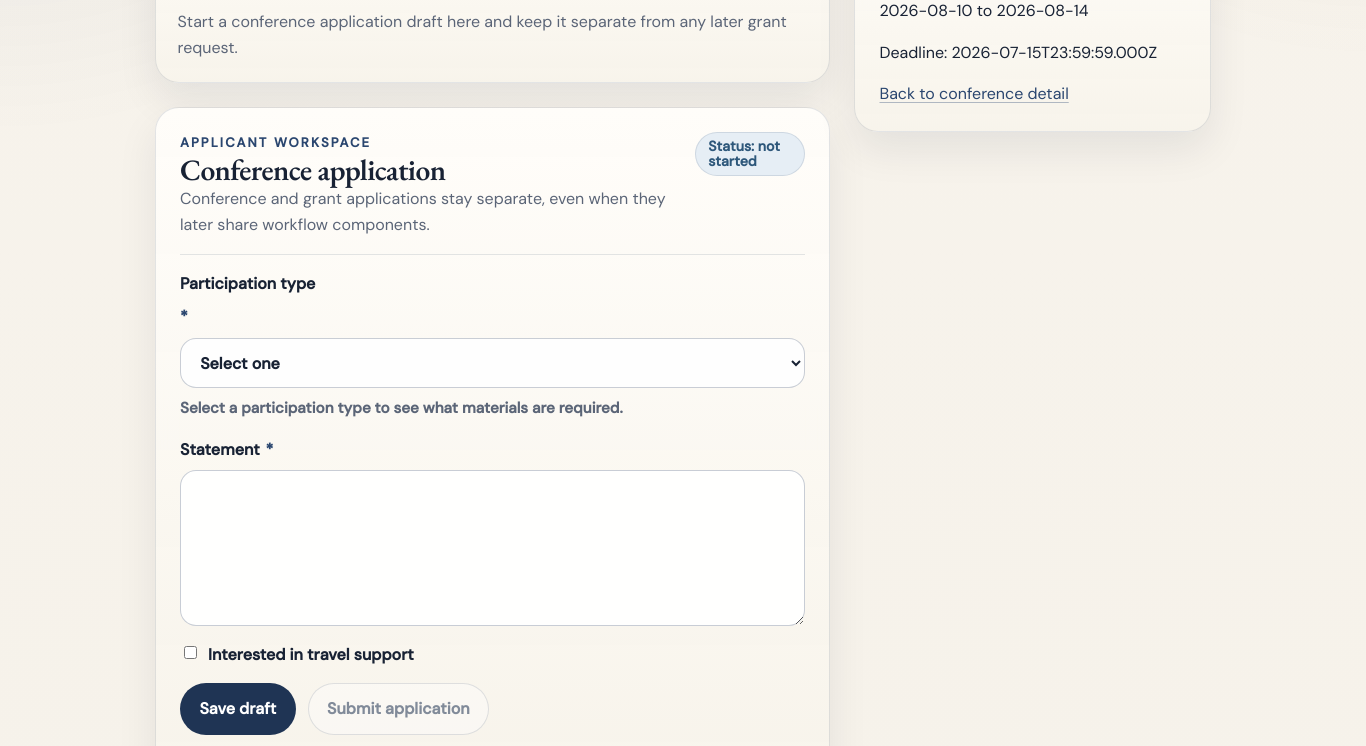
Test: conference apply page › allows participant submissions without abstract fields once the draft is saved
(page scrolled)
Expected: the heading "Conference application" is shown, 180,150 -> 446,189
Select "participant" in the dropdown labelled "Participation type *" at [493, 363], box 180,338 -> 806,388
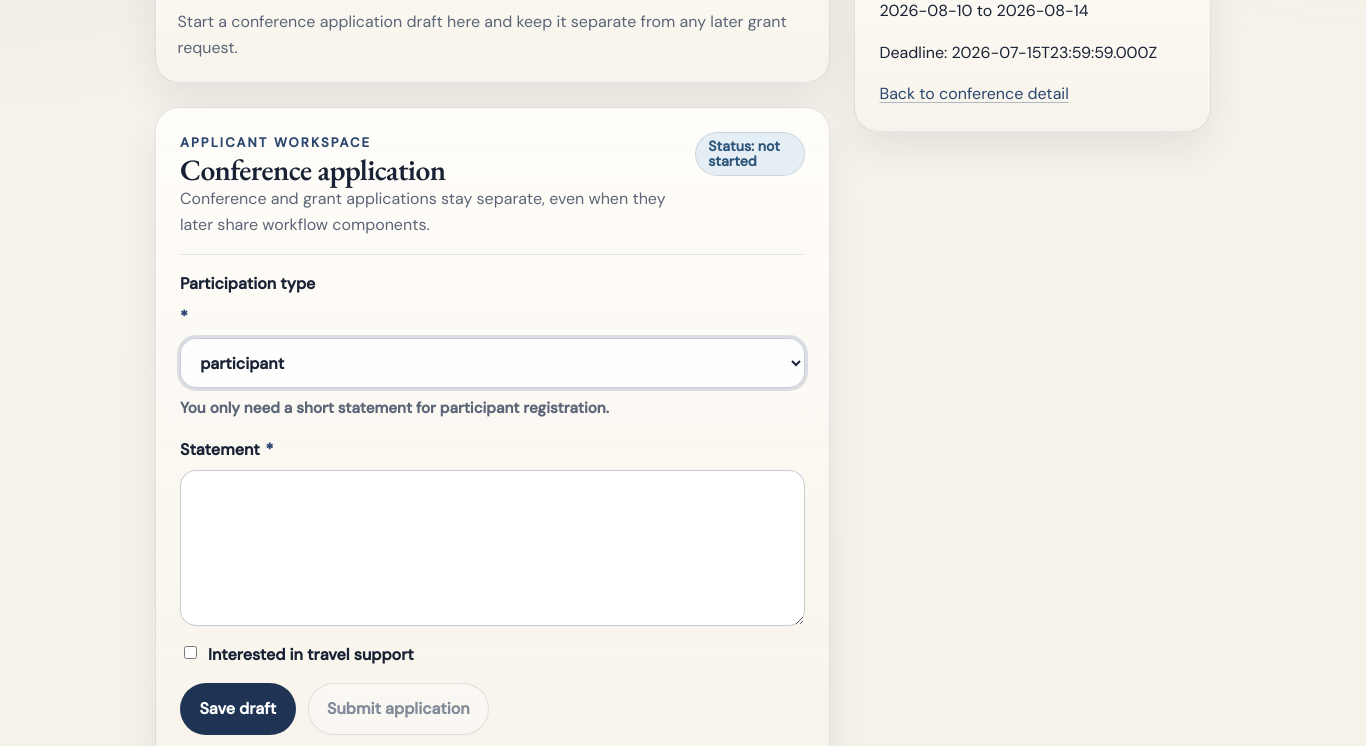
Type "I would like to attend and join discussions." into the text box labelled "Statement *" at [493, 548], box 180,470 -> 806,626
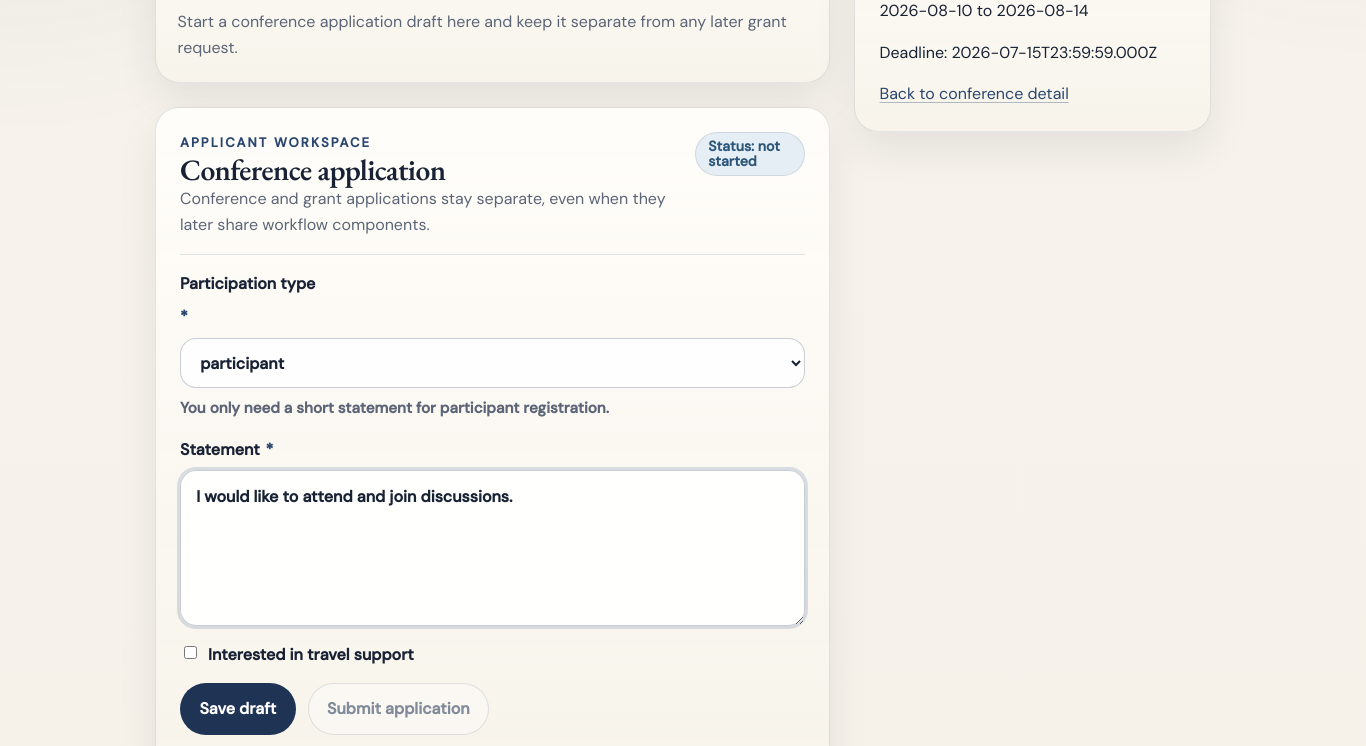
Click the button "Save draft" at [238, 709], box 180,683 -> 296,735
(page scrolled)
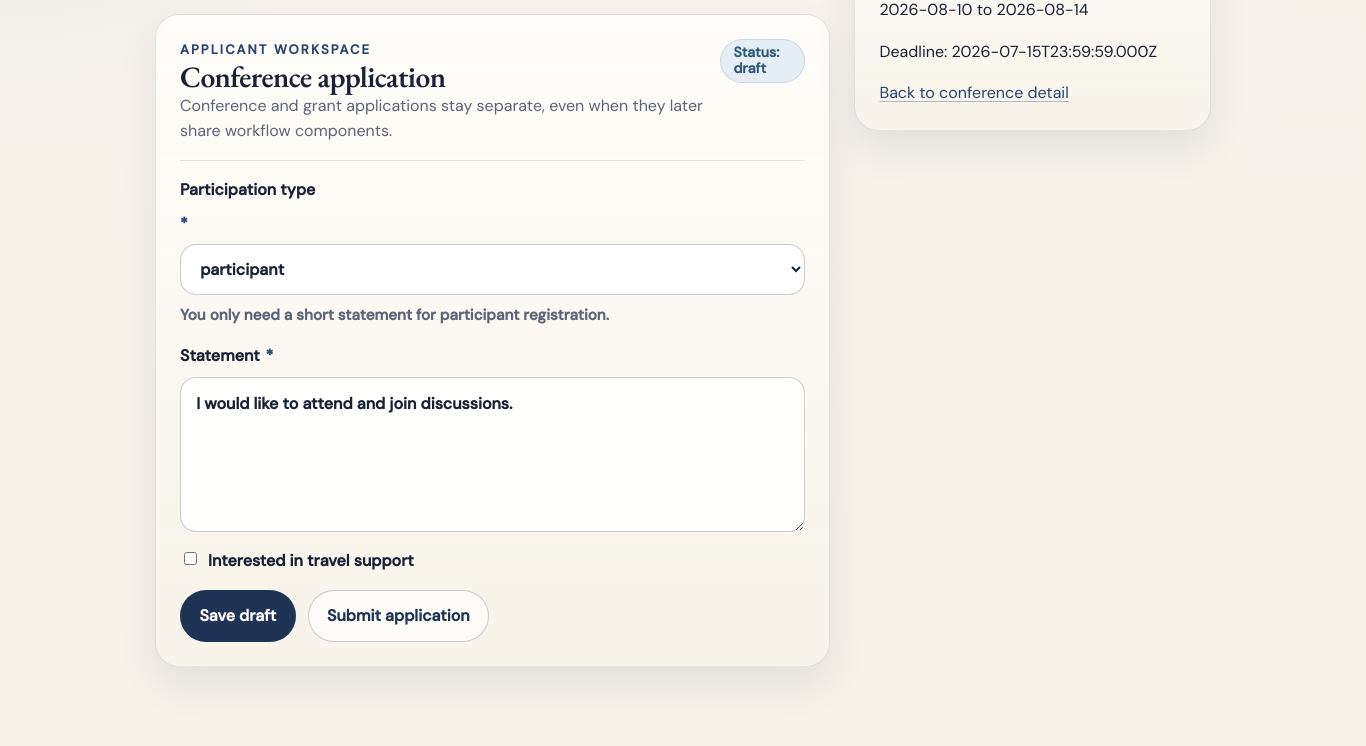
Now the button "Submit application" is enabled, box 308,590 -> 489,642
